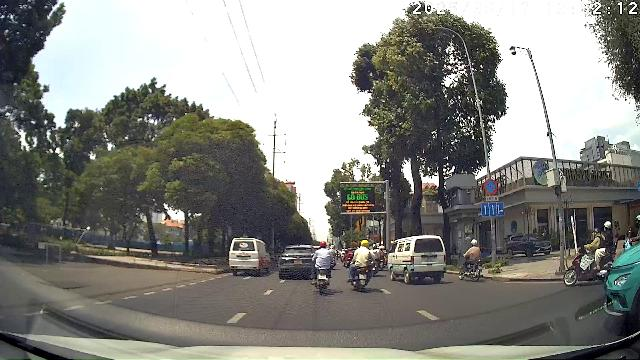131a-cam-do-xe: (484, 178, 498, 196)
